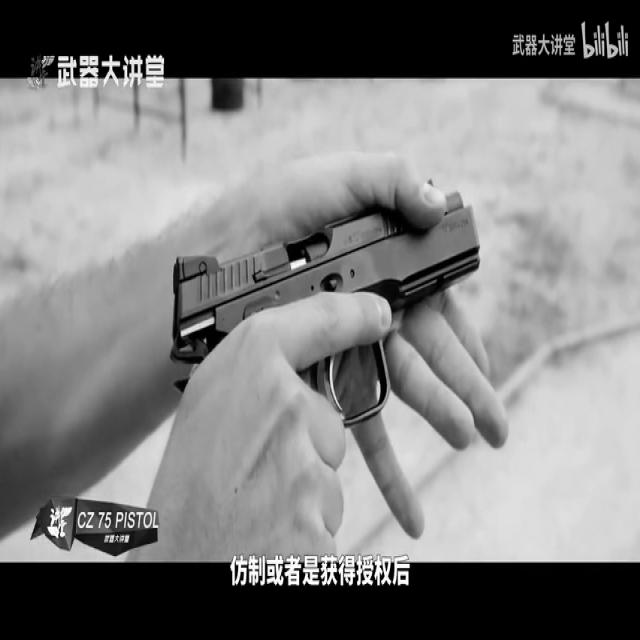Hand-Gun: (150, 180, 494, 503)
